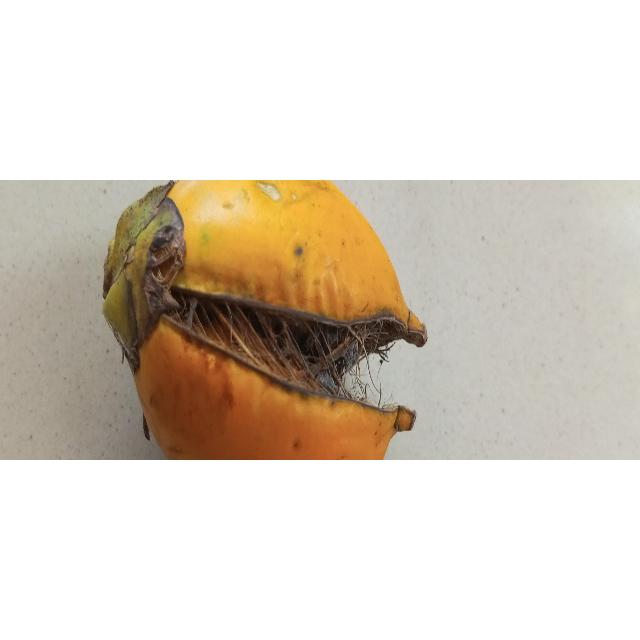damaged: (103, 180, 427, 461)
